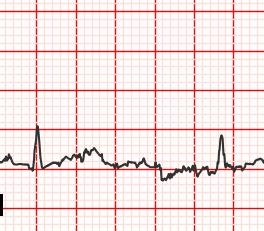Poor R Progression: (215, 129, 229, 176)
